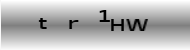1: (97, 9, 111, 23)
H: (110, 18, 125, 32)
W: (125, 17, 150, 32)
r: (68, 19, 80, 30)
t: (38, 17, 48, 30)
